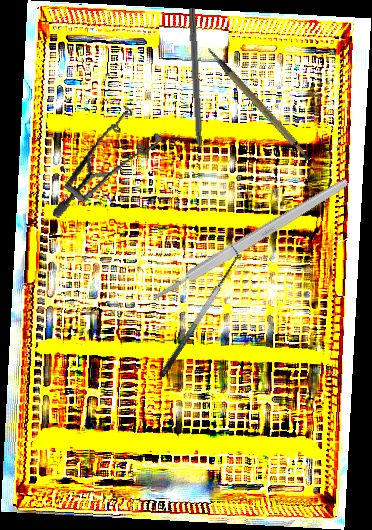Hook Surgical: (186, 7, 205, 170)
Scalpel Handle: (150, 175, 352, 304), (207, 33, 313, 173)
Spatula Surgical: (148, 245, 248, 379)
Speculum: (33, 99, 175, 219)
